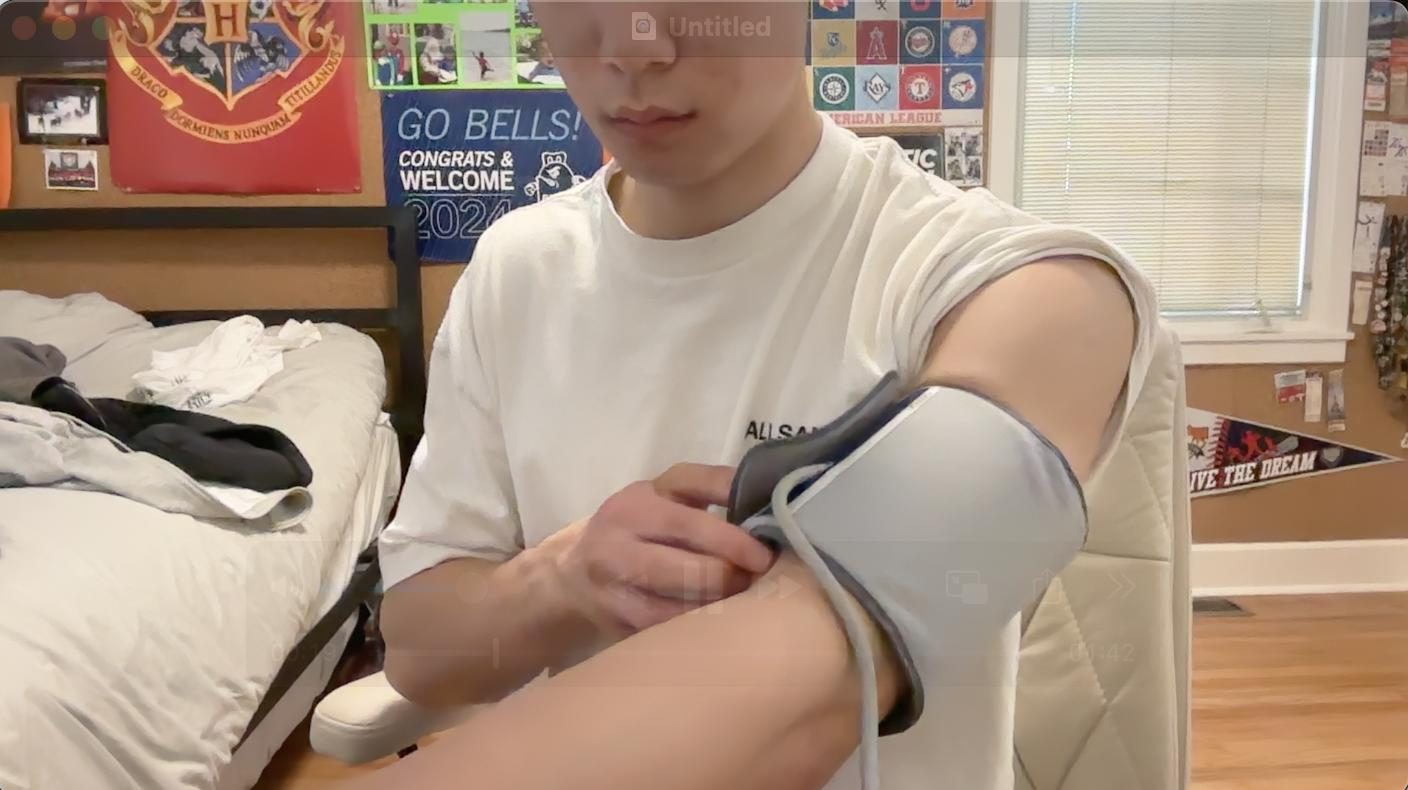cuff: (731, 388, 1088, 739)
